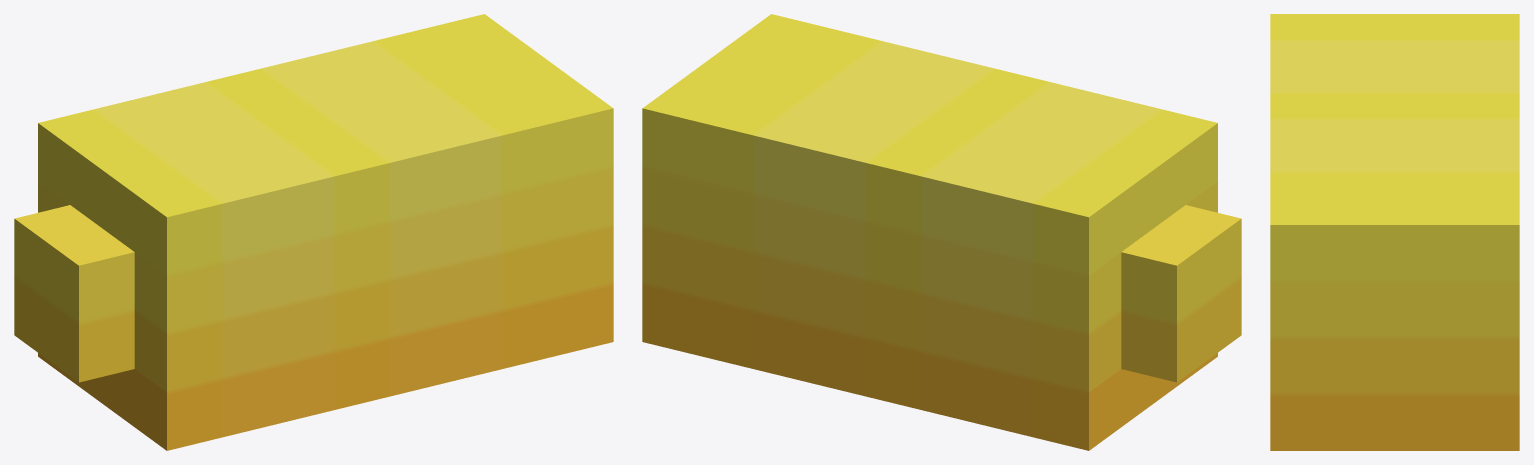
The model's file is Elbow028.fbx.
3 views of the same model, side by side, from view 1: azimuth 30°, elevation 25°; view 2: azimuth 150°, elevation 25°; view 3: azimuth 270°, elevation 25° (orthographic). The views are drawn at different scales.
Parts seen in each view (by area): view 1: Elbow028; view 2: Elbow028; view 3: Elbow028.
Part boxes in pixels (bbox=[...]): Elbow028: bbox=[14, 14, 613, 450]; Elbow028: bbox=[642, 14, 1241, 450]; Elbow028: bbox=[1270, 14, 1519, 450].
Size of the model in its own units: 9 by 4 by 4.
